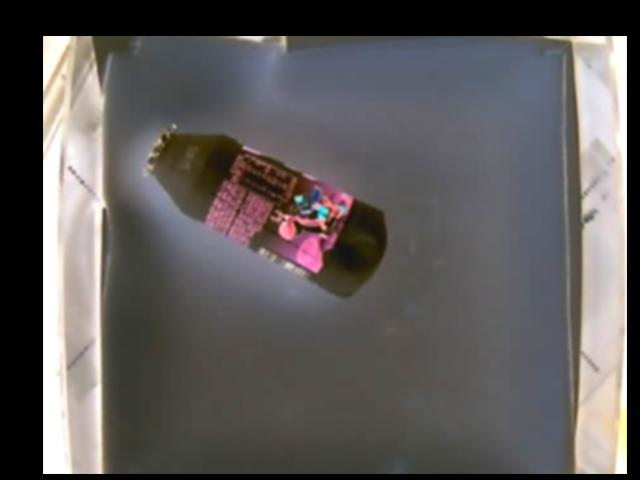Bottle: (140, 122, 387, 299)
